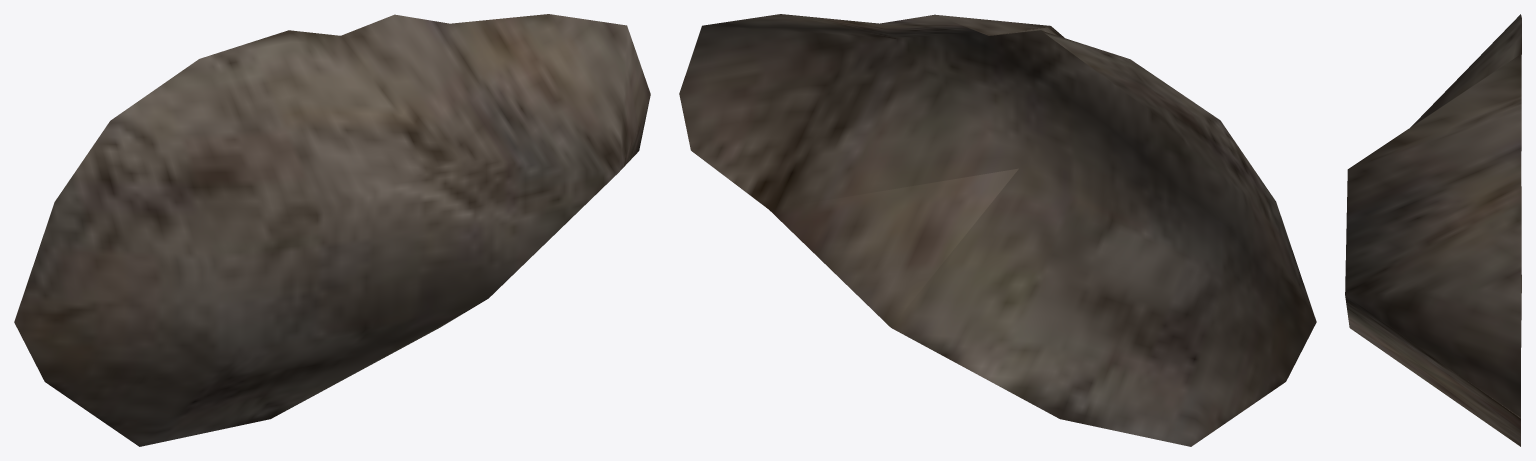
File: prop_toujane_roadrock5.glb
The picture shows the model from 3 angles, left to right: view 1: azimuth 30°, elevation 25°; view 2: azimuth 150°, elevation 25°; view 3: azimuth 270°, elevation 25°; orthographic projection. The views are drawn at different scales.
Bounding box in the file's own units: 20.82 × 12 × 5.18.
1 material, 1 textured.
